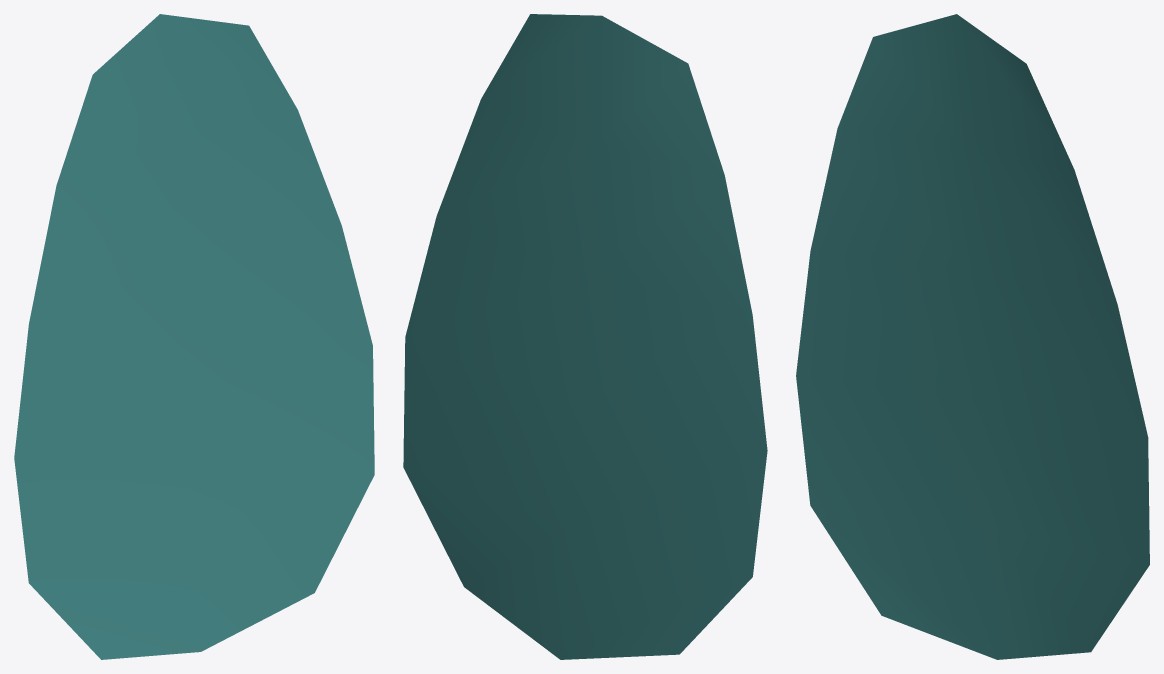
Rendered from budgie_feather_flight_tertiary_042.obj.
3 views of the same model, side by side, from view 1: azimuth 30°, elevation 25°; view 2: azimuth 150°, elevation 25°; view 3: azimuth 330°, elevation 25° (orthographic). The views are drawn at different scales.
Visible parts, largest first — view 1: feather_flight_tertiary_042; view 2: feather_flight_tertiary_042; view 3: feather_flight_tertiary_042.
Boxes of the visible parts, <box> form: feather_flight_tertiary_042: <box>14,14,374,659</box>; feather_flight_tertiary_042: <box>403,14,767,659</box>; feather_flight_tertiary_042: <box>796,14,1149,659</box>.
Bounding box in the file's own units: 0.00738 × 0.0127 × 0.000322.
